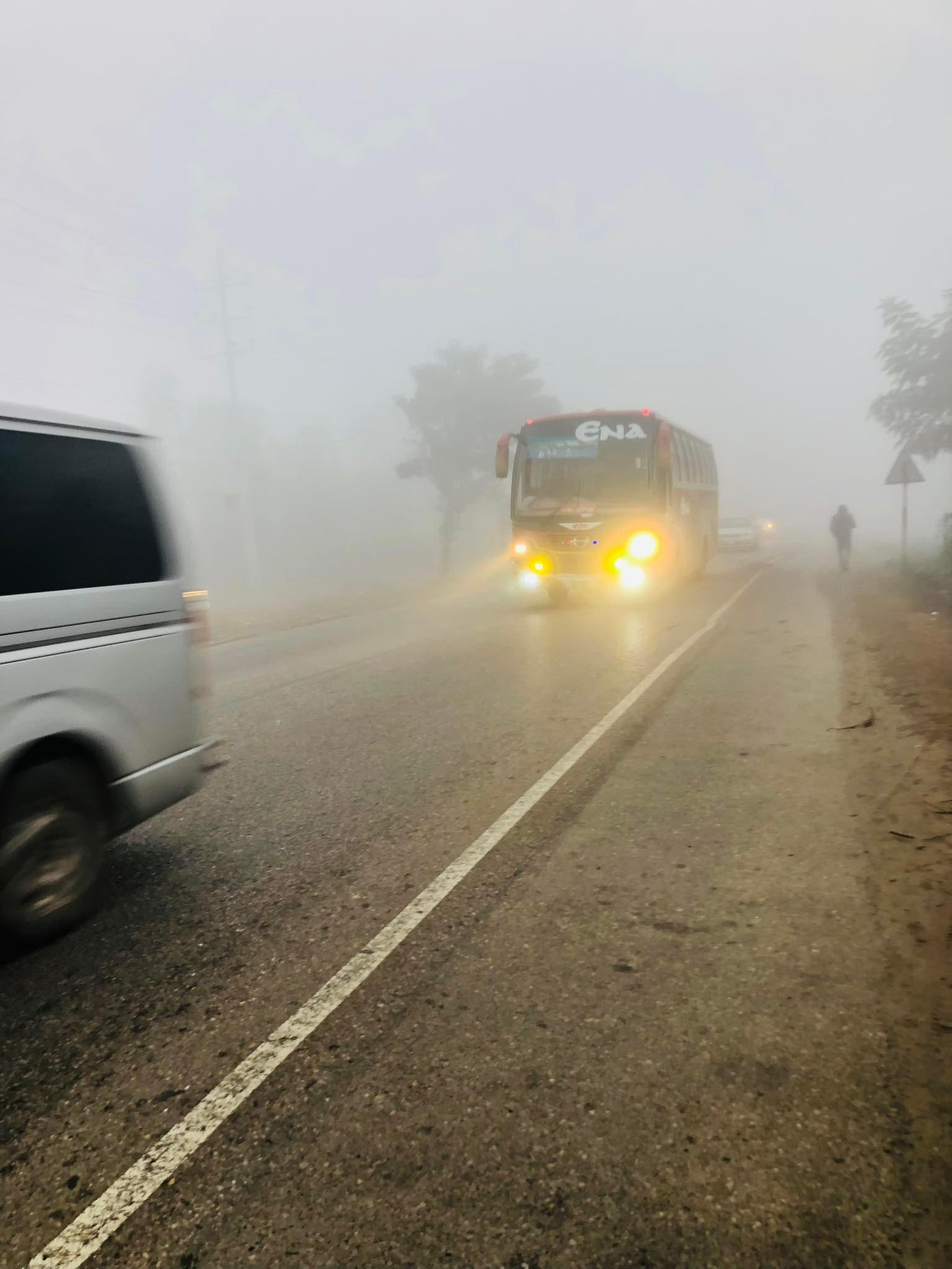Bus: (480, 401, 731, 604)
Car: (5, 384, 267, 931)
